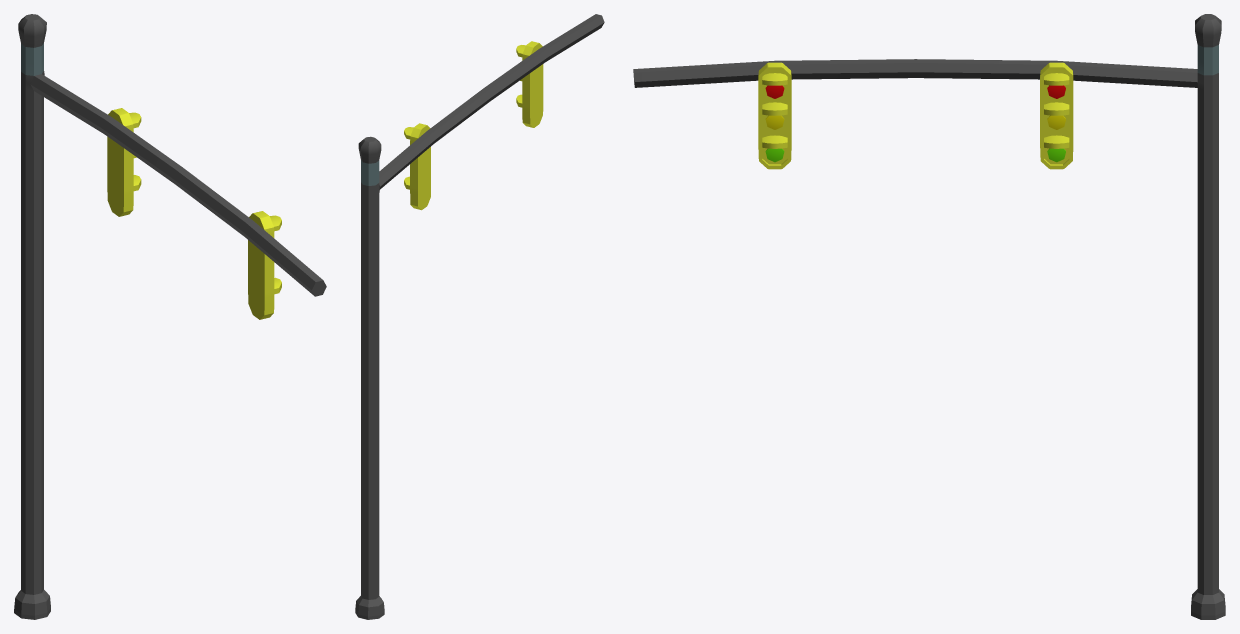
File: TrafficLight.fbx
The picture shows the model from 3 angles, left to right: view 1: azimuth 30°, elevation 25°; view 2: azimuth 150°, elevation 25°; view 3: azimuth 270°, elevation 25°; orthographic projection. The views are drawn at different scales.
Parts seen in each view (by area): view 1: pCube9; view 2: pCube9; view 3: pCube9.
Boxes of the visible parts, box(x1,y1,x2,y2) form: pCube9: box(14, 14, 326, 619); pCube9: box(355, 14, 604, 619); pCube9: box(633, 14, 1225, 619).
Bounding box in the file's own units: 8.26 × 102 × 91.96.
